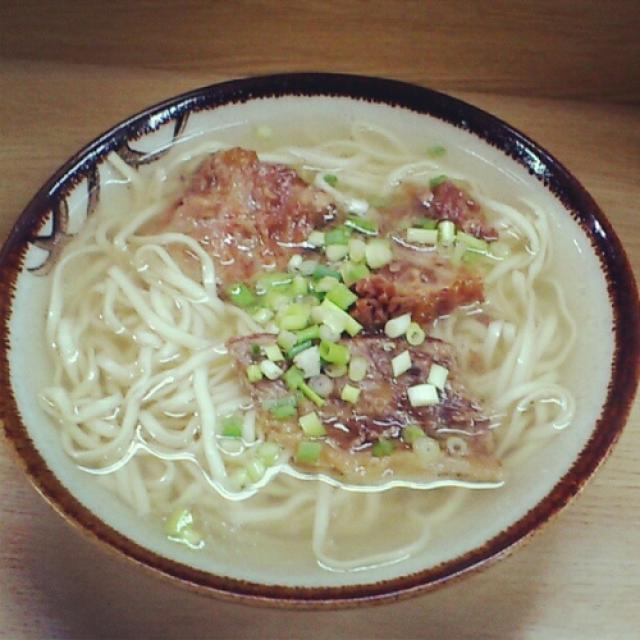熟制海鲜: (147, 63, 598, 492)
